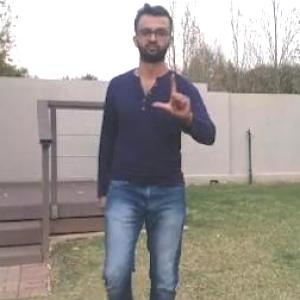land_hand: (151, 62, 206, 120)
